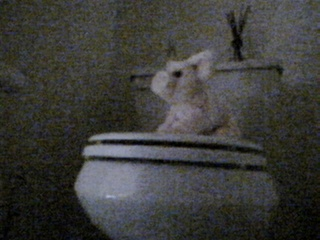piggy: (150, 49, 243, 140)
